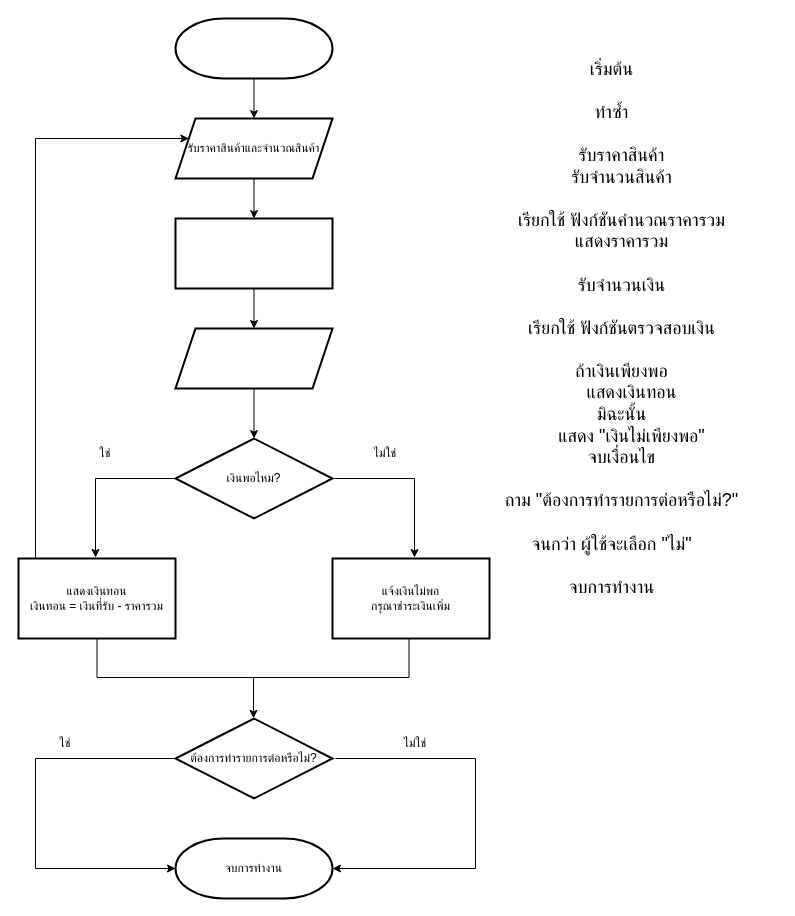
Image size: 795x916. Some labels were removed from this diagram. Here are the shapes that lost their labels. From the top down, the box of each, then its label:
(174, 17, 333, 79): เริ่ม
(174, 217, 333, 289): คำนวณราคา รวม = ราคา x จำนวณ
(174, 327, 333, 389): รับจำนวณเงิน จากลูกค้า
